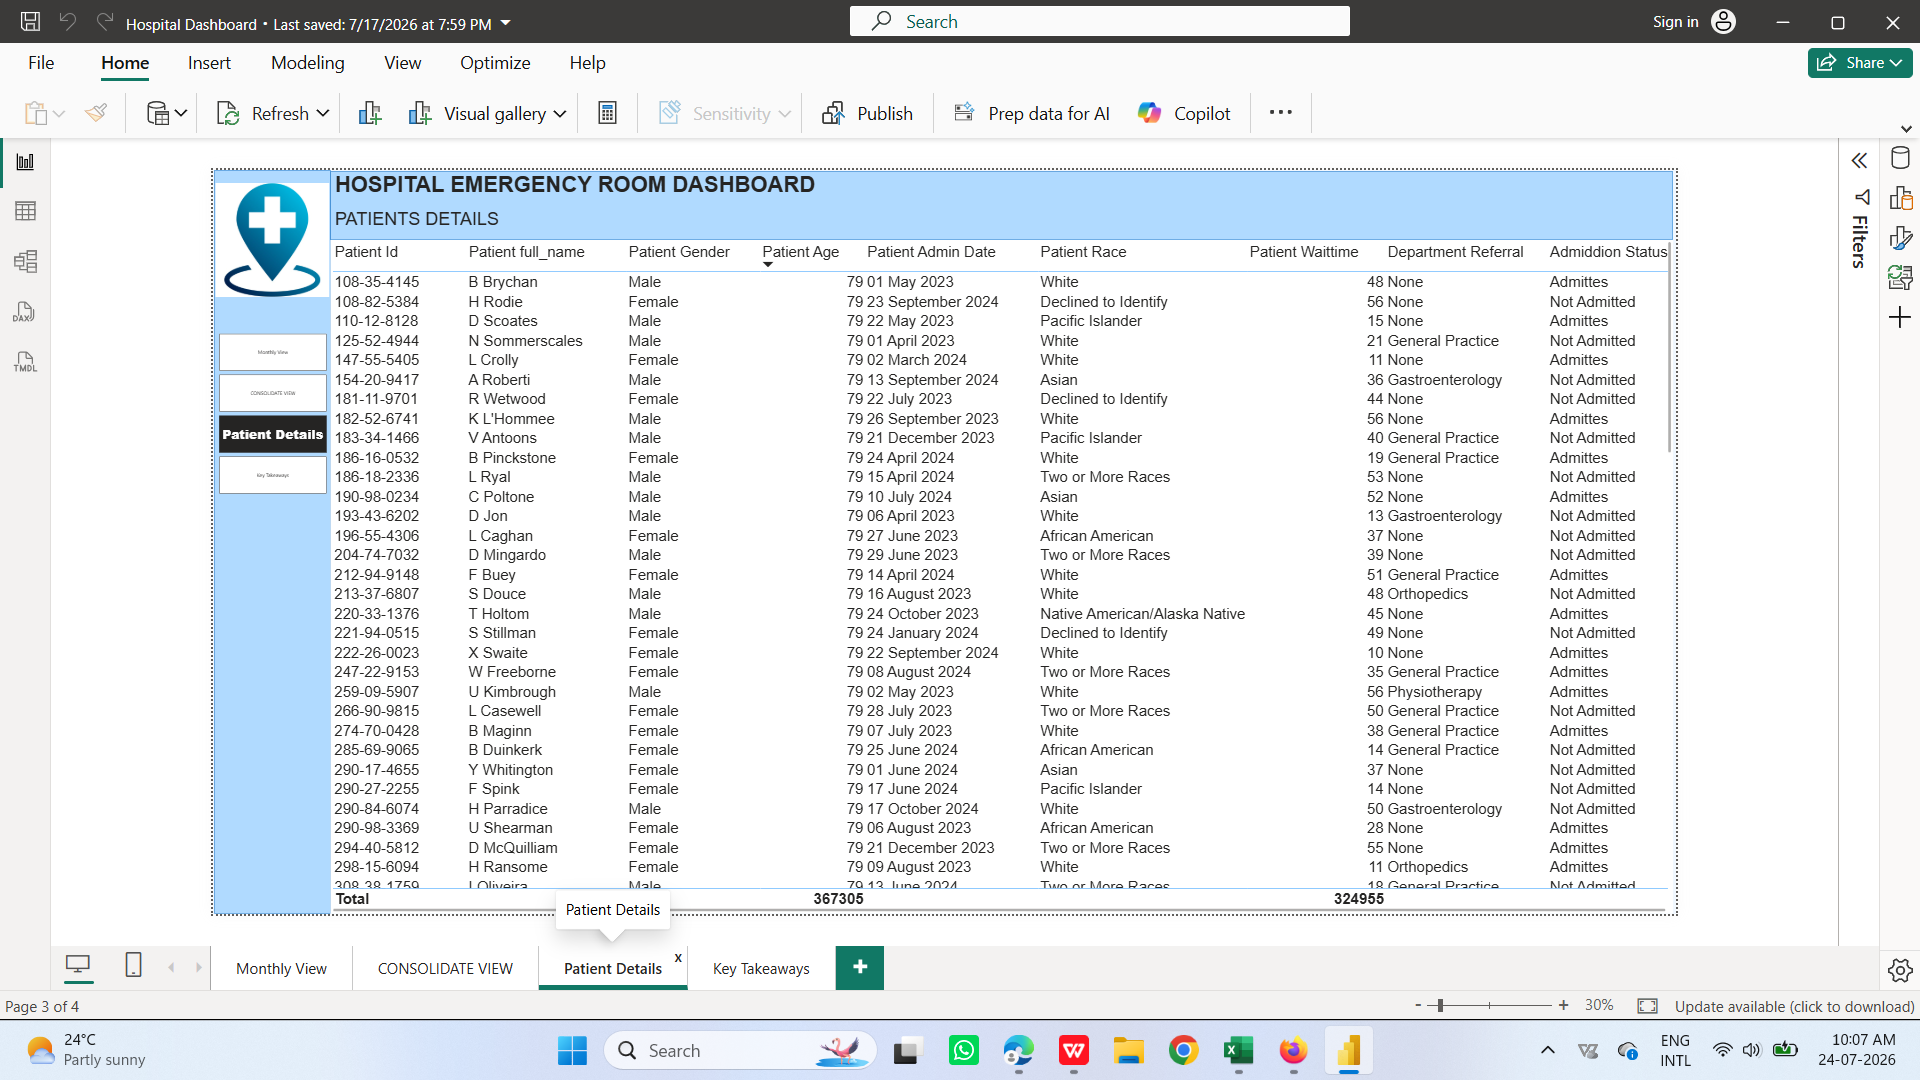

What the dashboard file says about the page in this screenshot:
{"tool":"powerbi","page":{"name":"Patient Details","canvas":[3900,1984],"ordinal":2},"visuals":[{"type":"shape","box":[313.3,3.3,3580,183.3],"z":0},{"type":"textbox","box":[320,0,1573.3,143.3],"z":1000},{"type":"shape","box":[3.3,0,310,1983.3],"z":2000},{"type":"textbox","box":[320,96.7,640,76.7],"z":3000},{"type":"tableEx","fields":{"Values":["Hospital ER_Data.Patient Id","Hospital ER_Data.Patient full_name","Hospital ER_Data.Patient Gender","Sum(Hospital ER_Data.Patient Age)","Hospital ER_Data.Patient Admin Date","Hospital ER_Data.Patient Race","Sum(Hospital ER_Data.Patient Waittime)","Hospital ER_Data.Department Referral","Hospital ER_Data.Admiddion Status"]},"box":[313,187,3580,1796],"z":6000},{"type":"pageNavigator","box":[16.7,436.7,286.7,426.7],"z":7000},{"type":"image","box":[6.7,6.7,303.3,360],"z":7001}]}

Visuals, with their boxes on the page's 3900x1984 design canvas (x1, y1, x2, y2). These are canvas units, not pixel positions in the 1920x1080 screenshot, which may show the page scaled, cropped or inside an application window:
shape: [left=313, top=3, right=3893, bottom=187]
textbox: [left=320, top=0, right=1893, bottom=143]
shape: [left=3, top=0, right=313, bottom=1983]
textbox: [left=320, top=97, right=960, bottom=173]
tableEx - Hospital ER_Data.Patient Id x Hospital ER_Data.Patient full_name: [left=313, top=187, right=3893, bottom=1983]
pageNavigator: [left=17, top=437, right=303, bottom=863]
image: [left=7, top=7, right=310, bottom=367]
